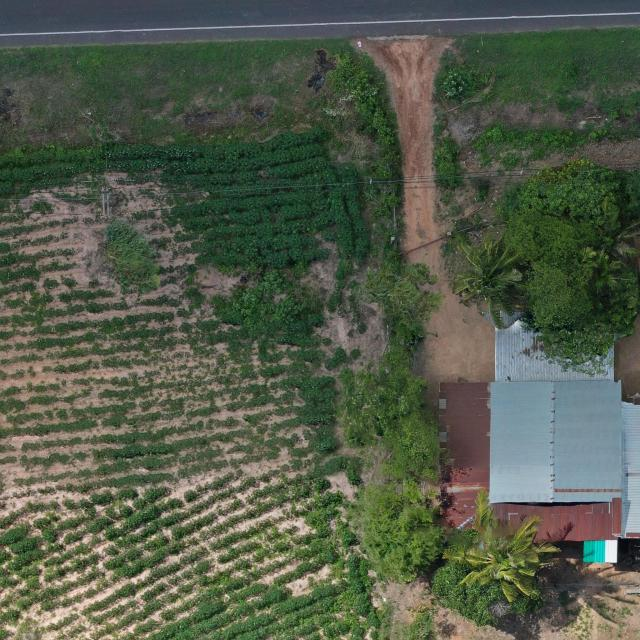Tree: (501, 216, 601, 330), (345, 364, 440, 480), (442, 512, 563, 603), (429, 528, 536, 630), (359, 481, 443, 586), (516, 159, 625, 238), (452, 238, 526, 327), (361, 262, 445, 328)
